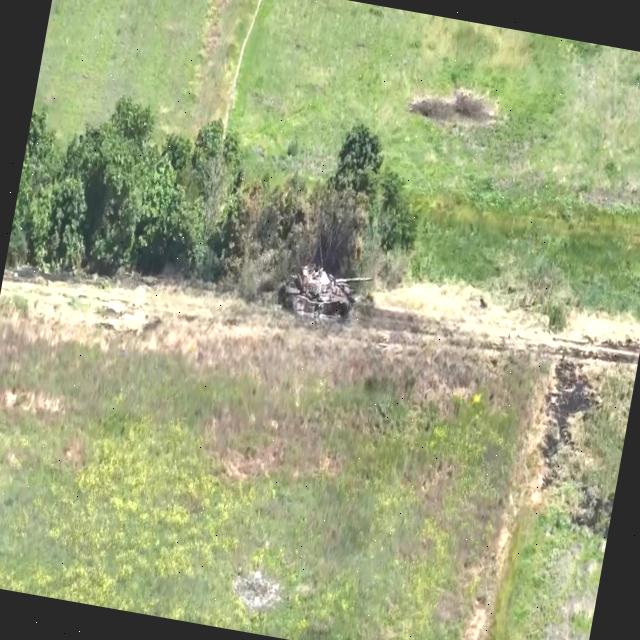Destroyed: (277, 259, 376, 331)
